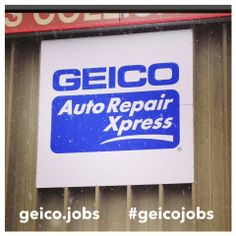Geico: (49, 63, 182, 90)
